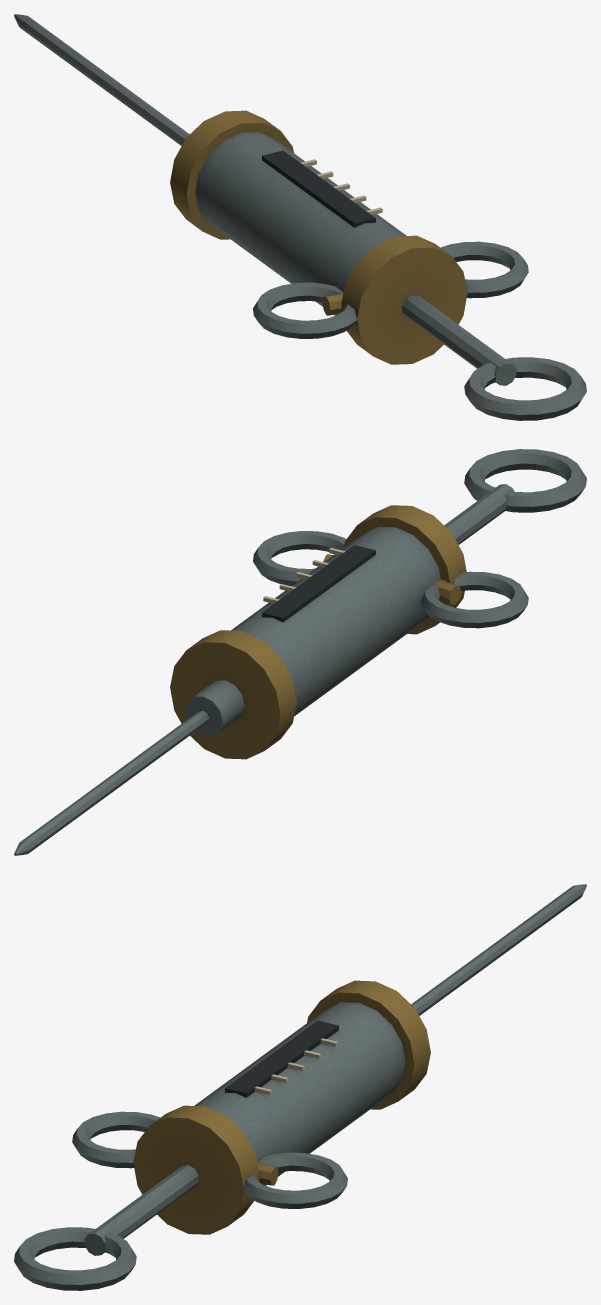
Rendered from spritz.obj.
3 renders of one model, top to bottom at view 1: azimuth 30°, elevation 25°; view 2: azimuth 150°, elevation 25°; view 3: azimuth 330°, elevation 25°, orthographic.
Parts seen in each view (by area): view 1: Spritz_barrel, Spritz_collar, Thumb_ring, Spritz_collar.001, Finger_ring, Spritz_Needle, Plunger_shaft, Finger_ring.001, Dose_window; view 2: Spritz_barrel, Spritz_collar.001, Thumb_ring, Spritz_collar, Finger_ring, Spritz_Needle, Dose_window, Finger_ring.001, Spritz_nozzle, Plunger_shaft; view 3: Spritz_barrel, Spritz_collar, Thumb_ring, Spritz_collar.001, Finger_ring.001, Spritz_Needle, Plunger_shaft, Finger_ring, Dose_window.
Boxes of the visible parts, x1,y1,x2,y2 form: Spritz_barrel: (195,132,406,315); Spritz_collar: (341,235,467,364); Thumb_ring: (464,357,586,420); Spritz_collar.001: (170,110,293,239); Finger_ring: (253,282,357,338); Spritz_Needle: (14,14,189,145); Plunger_shaft: (402,295,516,385); Finger_ring.001: (440,241,528,298); Dose_window: (262,150,375,227); Spritz_barrel: (231,526,440,716); Spritz_collar.001: (170,630,296,759); Thumb_ring: (464,449,586,512); Spritz_collar: (343,505,466,634); Finger_ring: (420,571,528,628); Spritz_Needle: (14,710,209,855); Dose_window: (262,545,375,622); Finger_ring.001: (253,531,346,585); Spritz_nozzle: (183,680,244,737); Plunger_shaft: (444,484,514,544); Spritz_barrel: (194,1002,405,1185); Spritz_collar: (133,1105,259,1234); Thumb_ring: (14,1227,136,1290); Spritz_collar.001: (307,980,430,1109); Finger_ring.001: (243,1152,347,1208); Spritz_Needle: (411,884,586,1015); Plunger_shaft: (84,1165,198,1255); Finger_ring: (72,1111,160,1168); Dose_window: (225,1020,338,1097).
Bounding box in the file's own units: 0.147 × 0.062 × 0.526.
1 material, 1 textured.
